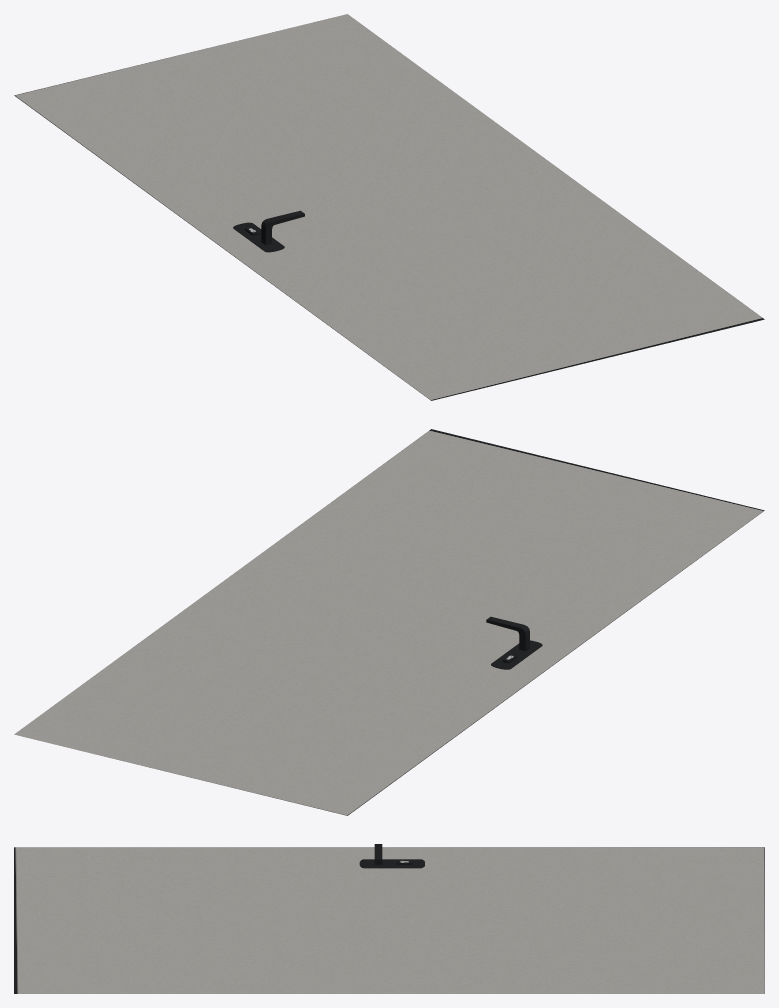
Rendered from door.010.fbx.
The picture shows the model from 3 angles, top to bottom: view 1: azimuth 30°, elevation 25°; view 2: azimuth 150°, elevation 25°; view 3: azimuth 270°, elevation 25°; orthographic projection. The views are drawn at different scales.
Parts seen in each view (by area): view 1: door_010; view 2: door_010; view 3: door_010.
Part boxes in pixels (bbox=[...]): door_010: bbox=[14, 14, 764, 400]; door_010: bbox=[14, 429, 764, 815]; door_010: bbox=[14, 844, 764, 993].
Size of the model in its own units: 1.07 by 0.0748 by 2.32.
1 material, 1 textured.
